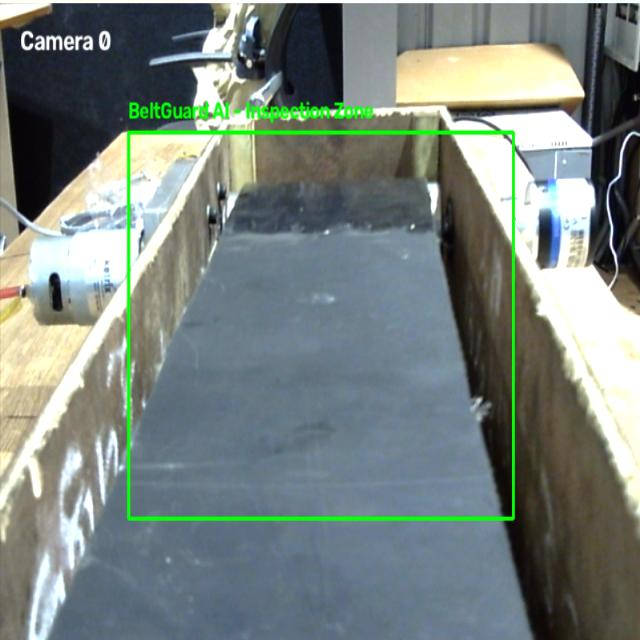Joint_Damage: (227, 177, 454, 255)
crack: (296, 289, 381, 322)
